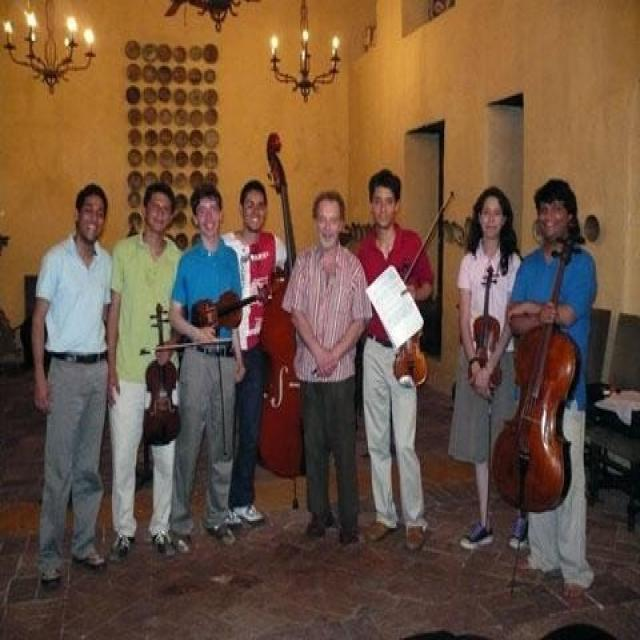cello: (489, 227, 588, 511)
violin: (140, 302, 184, 446), (466, 268, 504, 396), (189, 283, 273, 337), (392, 280, 430, 389)
